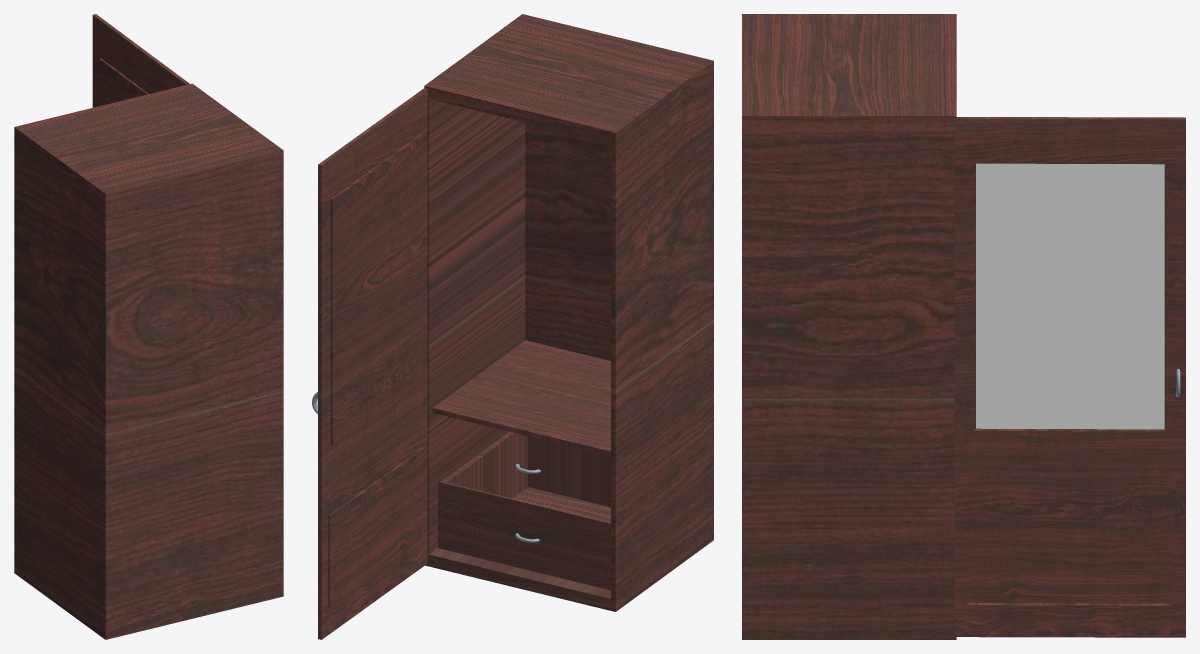
The model's file is Wardrobe.glb.
The picture shows the model from 3 angles, left to right: view 1: azimuth 30°, elevation 25°; view 2: azimuth 150°, elevation 25°; view 3: azimuth 270°, elevation 25°; orthographic projection. The views are drawn at different scales.
Visible parts, largest first — view 1: Cube.023, Plane.011; view 2: Cube.023, Plane.011, Cube.024, Plane.013; view 3: Cube.023, Plane.011, Plane.012.
Part boxes in pixels (box(x1,y1,x2,y2)): Cube.023: box(14, 83, 283, 639); Plane.011: box(92, 14, 189, 107); Cube.023: box(424, 14, 713, 611); Plane.011: box(318, 88, 427, 639); Cube.024: box(438, 431, 610, 590); Plane.013: box(432, 340, 610, 456); Cube.023: box(742, 14, 956, 639); Plane.011: box(954, 117, 1185, 637); Plane.012: box(976, 163, 1164, 429).
Bounding box in the file's own units: 0.8743 × 1.99 × 1.53.
Materials: 3 (1 with a texture image).
